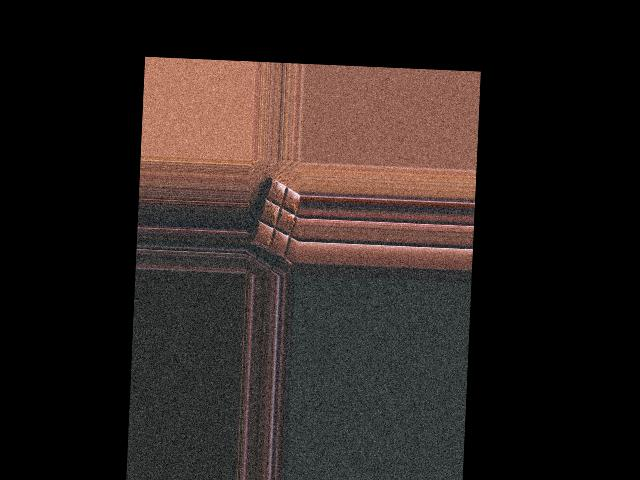chocolate: (249, 173, 300, 263)
